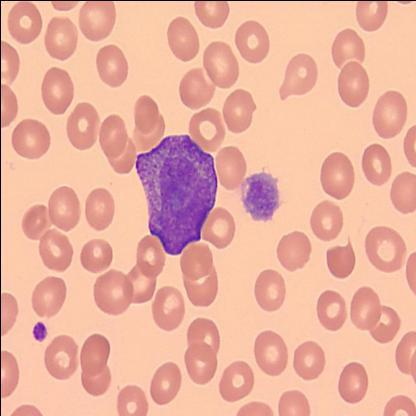NRC: (240, 167, 278, 221)
Promyelocyte: (134, 132, 214, 252)
